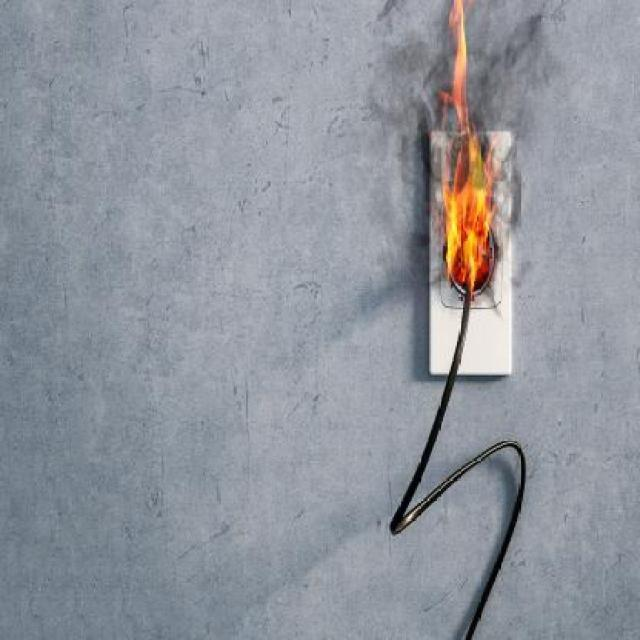Fire: (423, 0, 515, 302)
Smoke: (382, 0, 572, 277)
